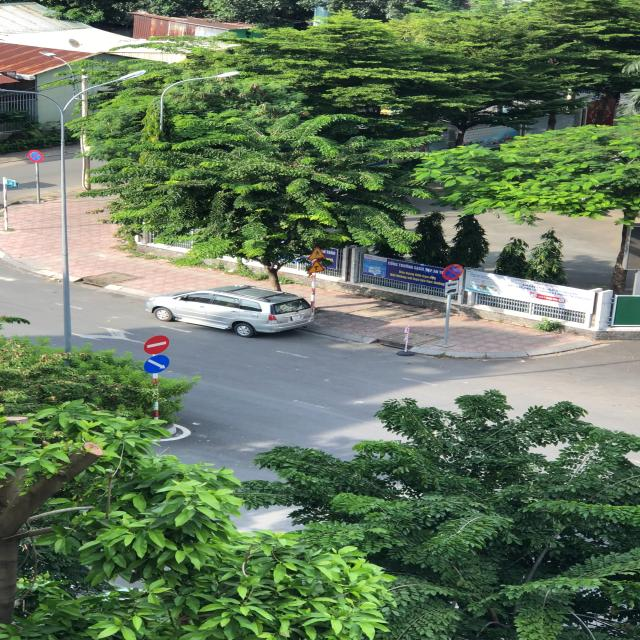Bien bao cam di nguoc chieu: (141, 334, 176, 356)
Bien bao cam dung xe va do xe: (440, 263, 468, 282)
Bien bao duong giao nhau: (304, 260, 330, 274)
Bien bao duong nguoi di bo cat ngang: (306, 245, 329, 260)
Bien bao huong phai di vong chuong ngai vat: (142, 354, 172, 374)
